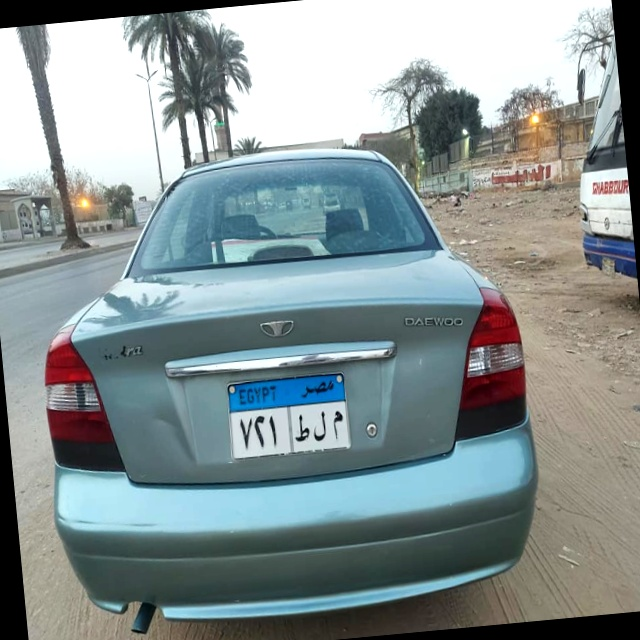License Plate: (223, 368, 354, 463)
